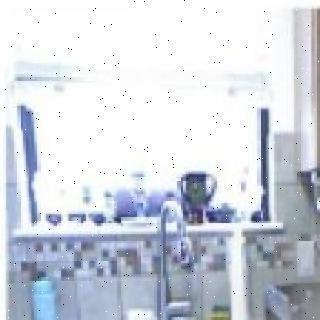smoke: (270, 165, 320, 320)
